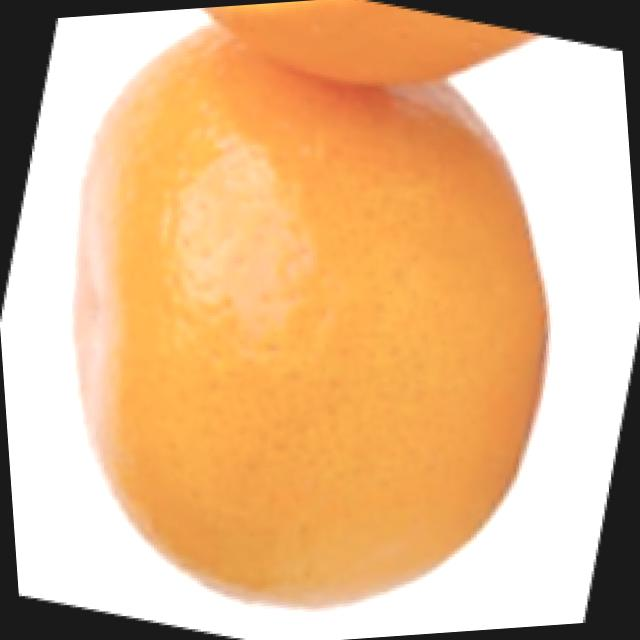orange: (54, 0, 552, 635)
